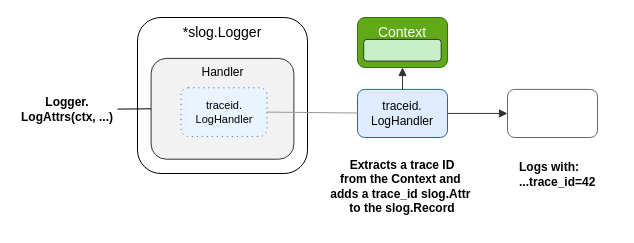
Image size: 634x243. Some labels were removed from this diagram. The shapes that lost their labels are listed below. From the top down, each one's centre as x and y in pixels, then its label:
At pixel 402 49: "Trace ID".
At pixel 552 113: "slog. TextHandler".
